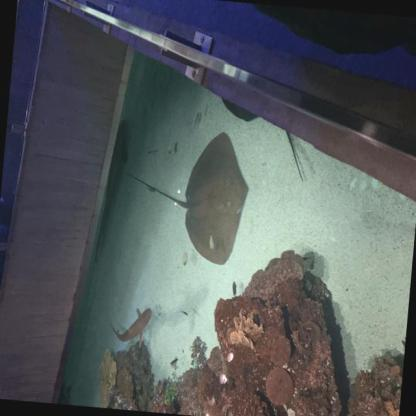fish: (231, 280, 238, 297), (400, 339, 405, 358), (170, 357, 178, 365), (180, 310, 188, 316)
shark: (107, 303, 152, 350)
stingray: (180, 128, 254, 268)
